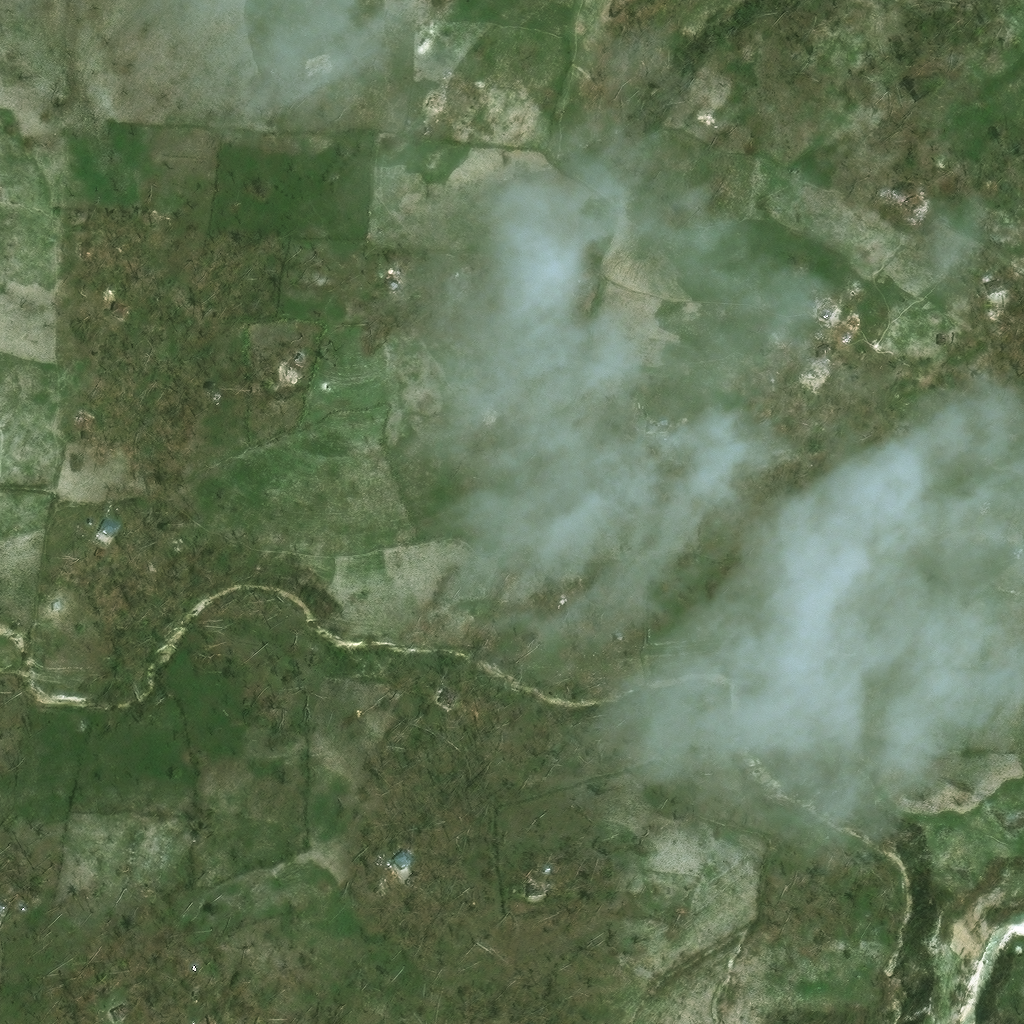destroyed: (178, 533, 202, 558), (791, 370, 814, 391), (0, 892, 17, 920), (371, 874, 391, 895), (300, 57, 322, 76), (802, 306, 821, 328), (200, 1008, 226, 1023), (415, 95, 434, 114), (432, 79, 447, 95), (378, 983, 393, 998), (709, 955, 723, 968), (387, 274, 398, 290), (54, 595, 67, 608), (288, 363, 300, 376), (801, 354, 813, 366), (921, 384, 933, 394), (708, 107, 720, 116), (412, 869, 422, 879), (82, 238, 91, 249), (985, 307, 994, 317)
major_damage: (454, 676, 475, 698), (910, 192, 930, 212), (110, 1002, 129, 1020), (79, 406, 95, 423), (516, 887, 528, 903)
minor_damage: (398, 841, 424, 864), (118, 293, 139, 311), (981, 280, 997, 297)
no_damage: (101, 511, 125, 535)
unclassified: (532, 484, 552, 503), (576, 276, 594, 296), (642, 421, 661, 435), (573, 569, 589, 585), (480, 406, 496, 422), (840, 646, 853, 657), (623, 428, 632, 438), (459, 603, 468, 612), (475, 596, 482, 605)
